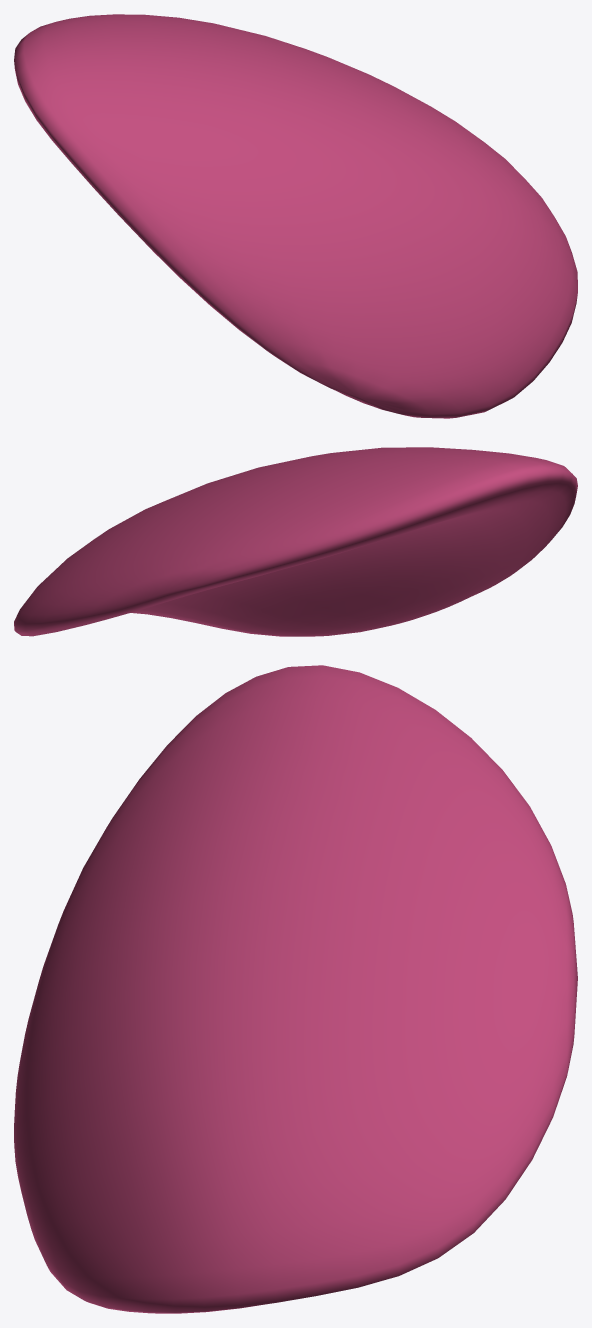
The picture shows the model from 3 angles, top to bottom: view 1: azimuth 30°, elevation 25°; view 2: azimuth 150°, elevation 25°; view 3: azimuth 270°, elevation 25°; orthographic projection. The views are drawn at different scales.
Parts seen in each view (by area): view 1: 左侧冈下肌腱下囊; view 2: 左侧冈下肌腱下囊; view 3: 左侧冈下肌腱下囊.
Boxes of the visible parts, box(x1,y1,x2,y2) form: 左侧冈下肌腱下囊: box(14, 14, 577, 418); 左侧冈下肌腱下囊: box(14, 447, 577, 636); 左侧冈下肌腱下囊: box(14, 665, 577, 1313).
Bounding box in the file's own units: 0.0338 × 0.0211 × 0.0261.
